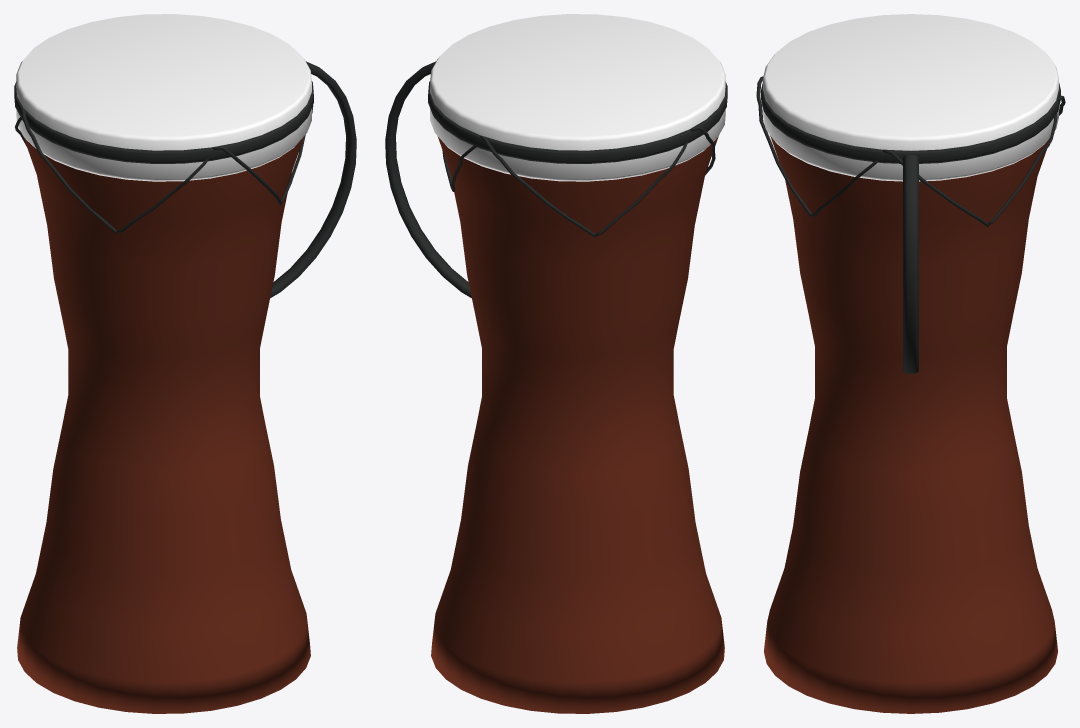
The model's file is scene_tifa.gltf.
3 renders of one model, left to right at view 1: azimuth 30°, elevation 25°; view 2: azimuth 150°, elevation 25°; view 3: azimuth 270°, elevation 25°, orthographic.
Visible parts, largest first — view 1: Cylinder, Cylinder.001, Cylinder.002, Cylinder.003, Cylinder.004; view 2: Cylinder, Cylinder.001, Cylinder.002, Cylinder.003, Cylinder.004; view 3: Cylinder, Cylinder.001, Cylinder.002, Cylinder.003, Cylinder.004.
Boxes of the visible parts, <box> form: Cylinder: <box>17,136,310,713</box>; Cylinder.001: <box>16,14,311,181</box>; Cylinder.002: <box>14,81,313,163</box>; Cylinder.003: <box>270,61,356,297</box>; Cylinder.004: <box>15,105,313,233</box>; Cylinder: <box>431,136,724,713</box>; Cylinder.001: <box>430,14,725,181</box>; Cylinder.002: <box>428,81,727,163</box>; Cylinder.003: <box>385,61,471,297</box>; Cylinder.004: <box>442,126,715,237</box>; Cylinder: <box>764,135,1057,713</box>; Cylinder.001: <box>763,14,1058,181</box>; Cylinder.002: <box>761,83,1060,163</box>; Cylinder.003: <box>903,155,918,373</box>; Cylinder.004: <box>756,76,1065,226</box>.
Bounding box in the file's own units: 2.82 × 4.78 × 2.32.
